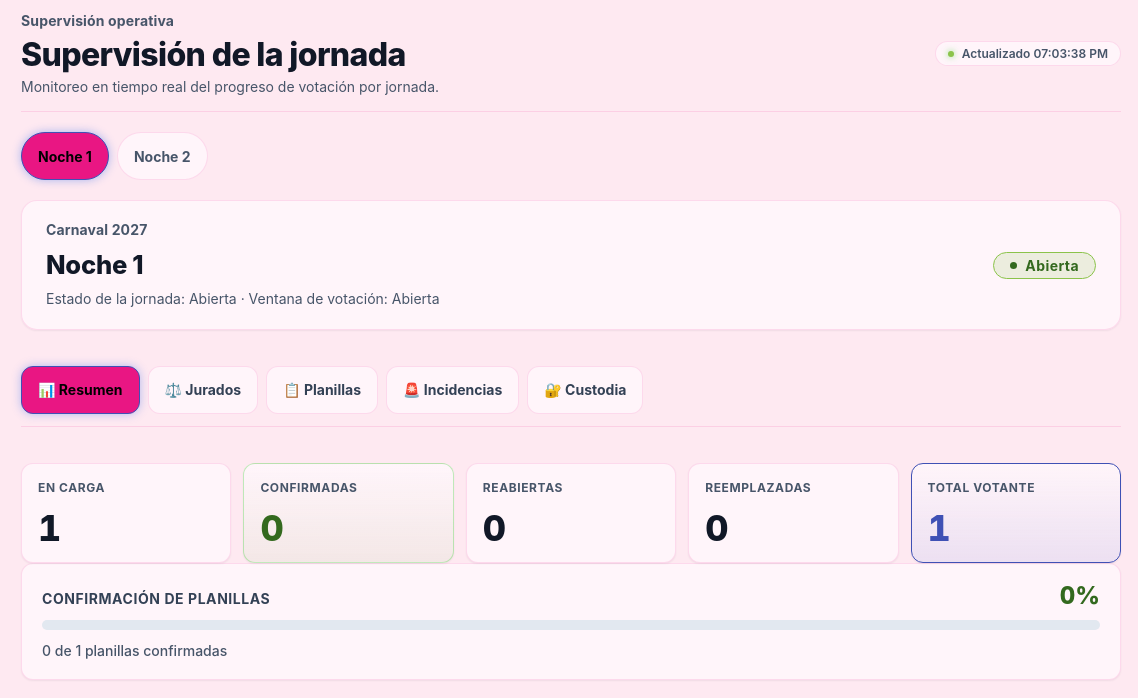
Test: VeedorMonitorPage › permite alternar entre jornadas cuando hay más de una
The width and height of the screenshot is (1138, 698).
Expected: the heading "Noche 1" is shown, [46,249,143,280]
Click the button "Noche 2": (162, 156) [117,132,208,180]
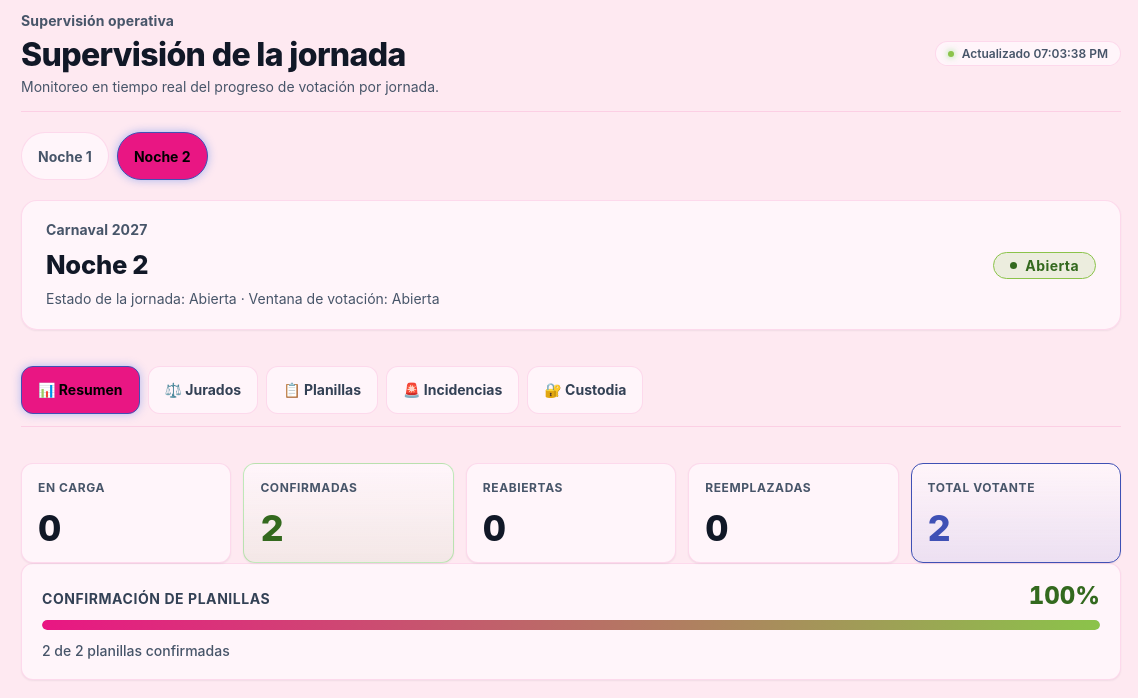
Expected: the heading "Noche 2" is shown, [46,249,148,280]
